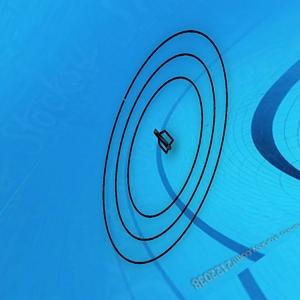circle: (101, 28, 227, 268)
submarine: (156, 129, 175, 155)
